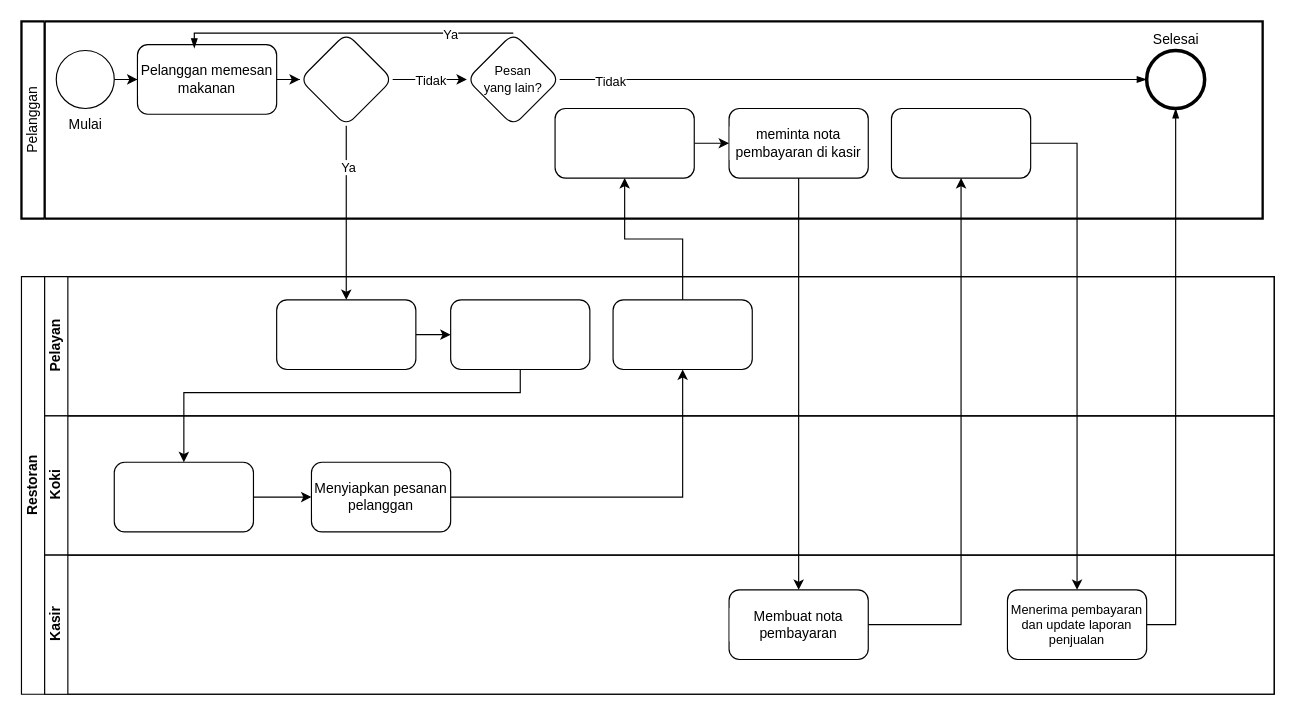
The diagram is 1295 pixels wide and 715 high, and some of its shapes have lost their labels. Each missing label, with the box of its shape:
Mencatat pesanan pelanggan: (276, 299, 416, 369)
Menerima nota pembyaran dan melakukan pembayaran: (890, 107, 1031, 178)
Menerima pesanan: (554, 107, 694, 178)
Menerima pesanan pelanggan: (113, 461, 253, 532)
Mengantarkan pesanan ke meja pelanggan: (612, 299, 752, 369)
Menu ada?: (299, 32, 393, 126)
Menyampaikan pesanan ke koki: (449, 299, 590, 369)
